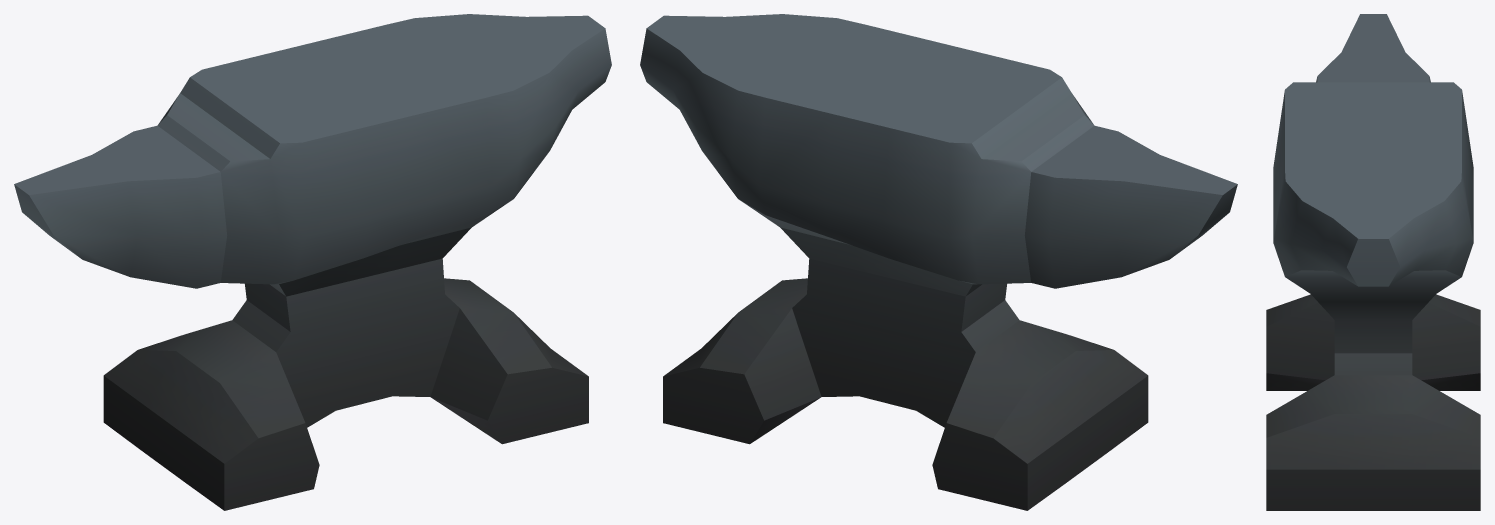
Rendered from Anvil.fbx.
3 views of the same model, side by side, from view 1: azimuth 30°, elevation 25°; view 2: azimuth 150°, elevation 25°; view 3: azimuth 270°, elevation 25° (orthographic). The views are drawn at different scales.
Parts seen in each view (by area): view 1: Anvil; view 2: Anvil; view 3: Anvil.
Boxes of the visible parts, bbox=[...] form: Anvil: bbox=[14, 14, 611, 510]; Anvil: bbox=[640, 14, 1237, 510]; Anvil: bbox=[1266, 14, 1480, 510].
Bounding box in the file's own units: 158 × 89.06 × 57.38.
